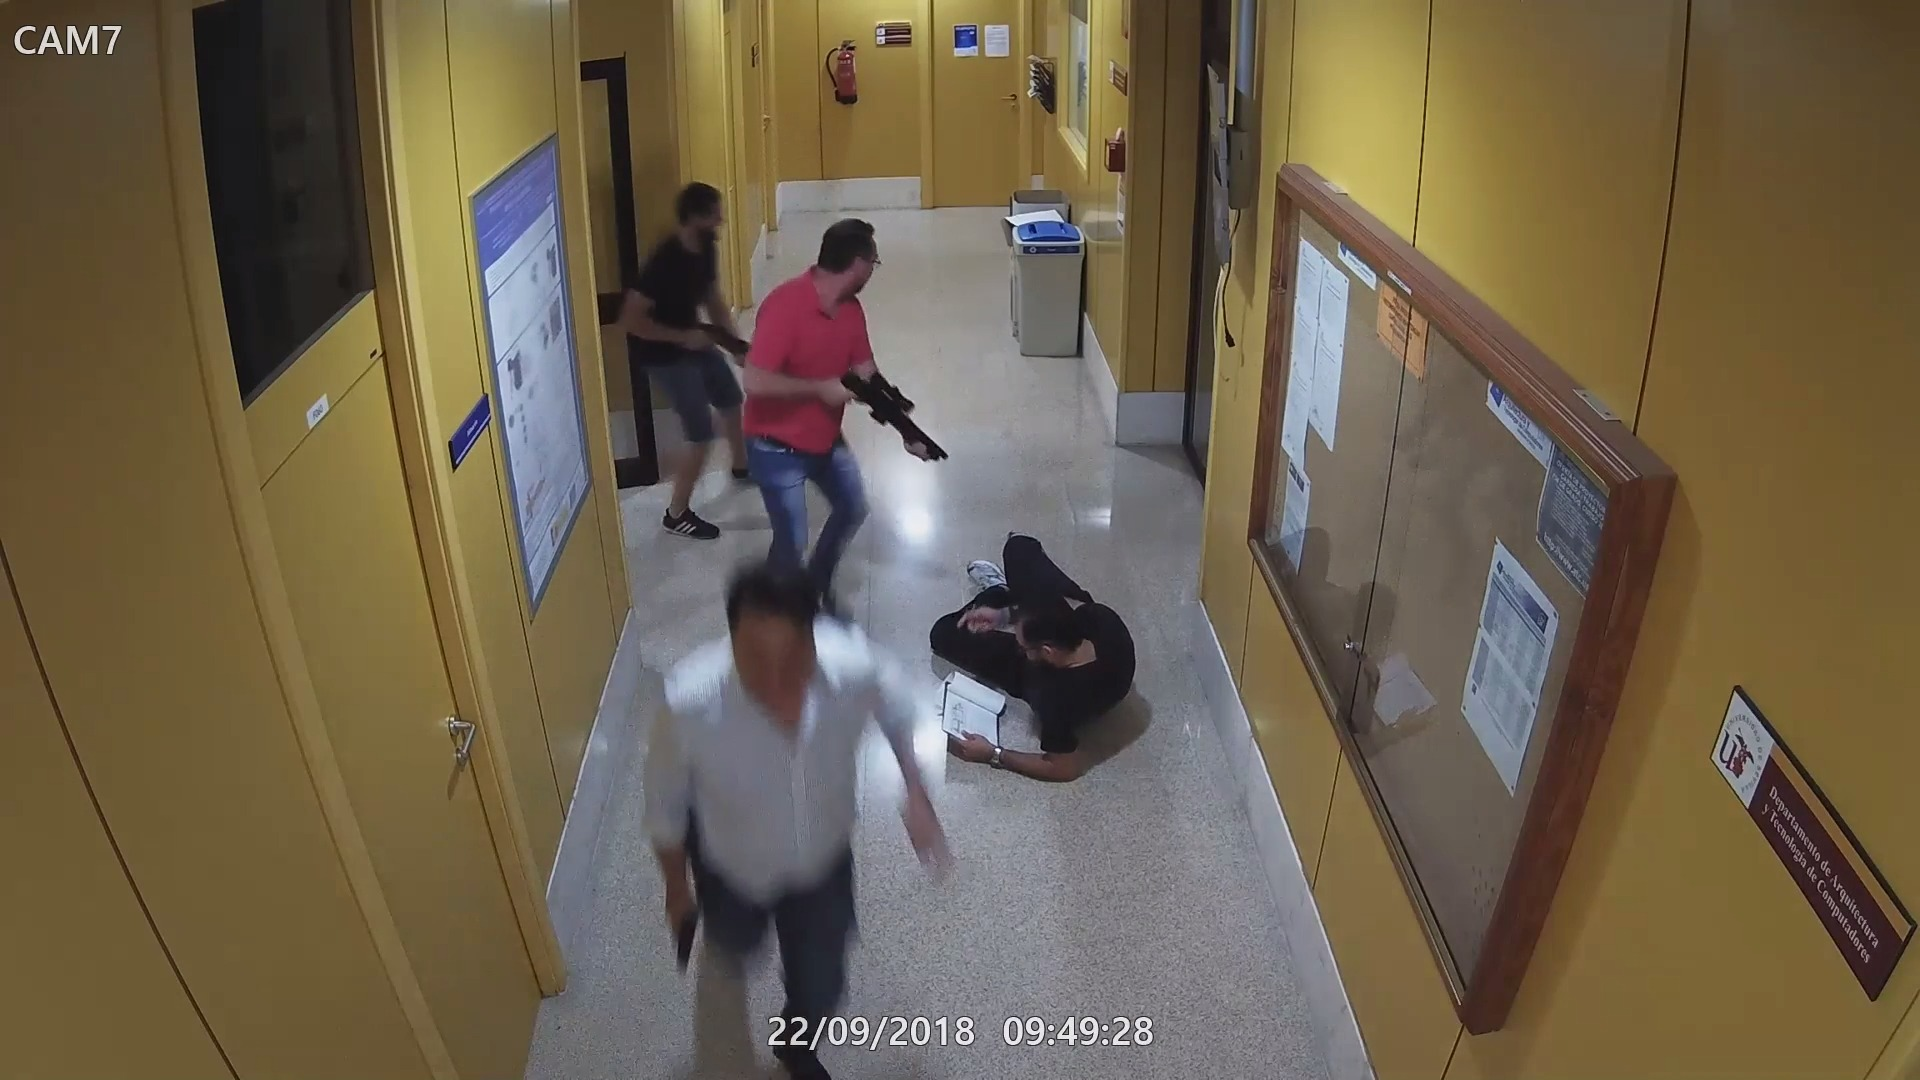Handgun: (673, 906, 699, 976)
Short_rifle: (837, 373, 949, 463), (686, 314, 752, 364)
